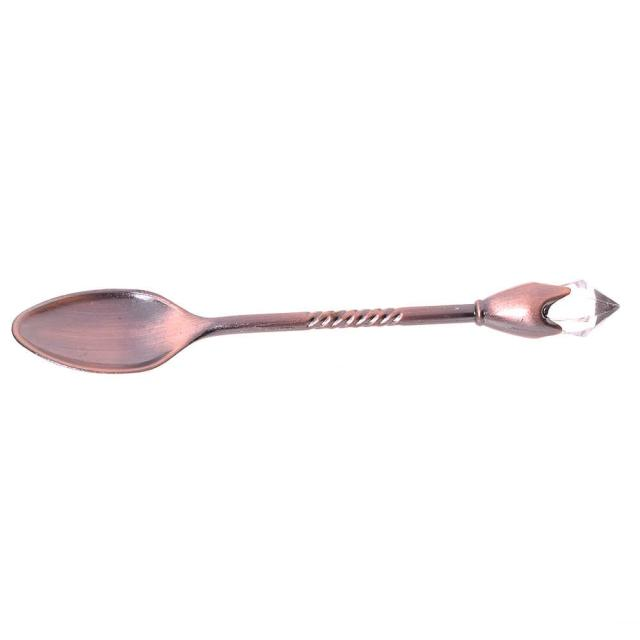spoon: (10, 246, 633, 398)
